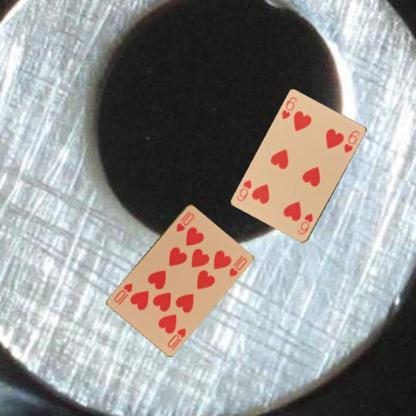10h: (173, 208, 196, 233), (165, 326, 187, 348)
6h: (279, 94, 298, 121), (296, 211, 314, 236)
